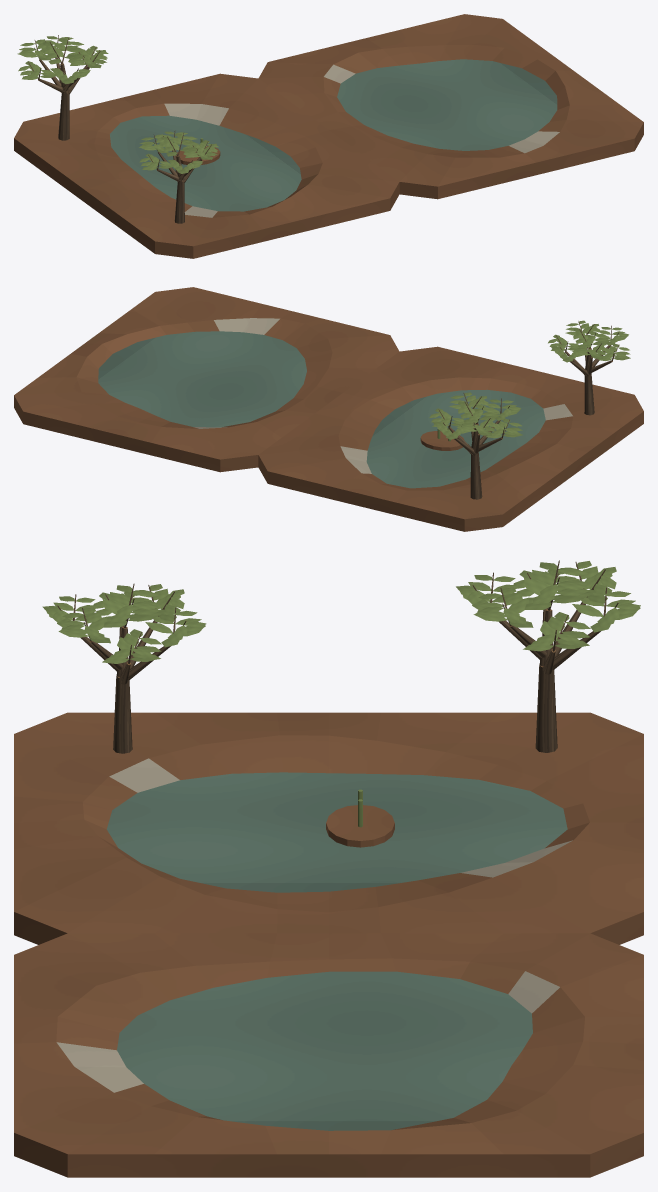
3 views of the same model, one above another, from view 1: azimuth 30°, elevation 25°; view 2: azimuth 150°, elevation 25°; view 3: azimuth 270°, elevation 25° (orthographic). The views are drawn at different scales.
Parts seen in each view (by area): view 1: tokyo; view 2: tokyo; view 3: tokyo.
Boxes of the visible parts, <box> form: tokyo: <box>14,14,643,258</box>; tokyo: <box>14,287,643,531</box>; tokyo: <box>14,560,643,1177</box>.
Size of the model in its own units: 7.4 by 1.55 by 4.4.
1 material, 1 textured.
